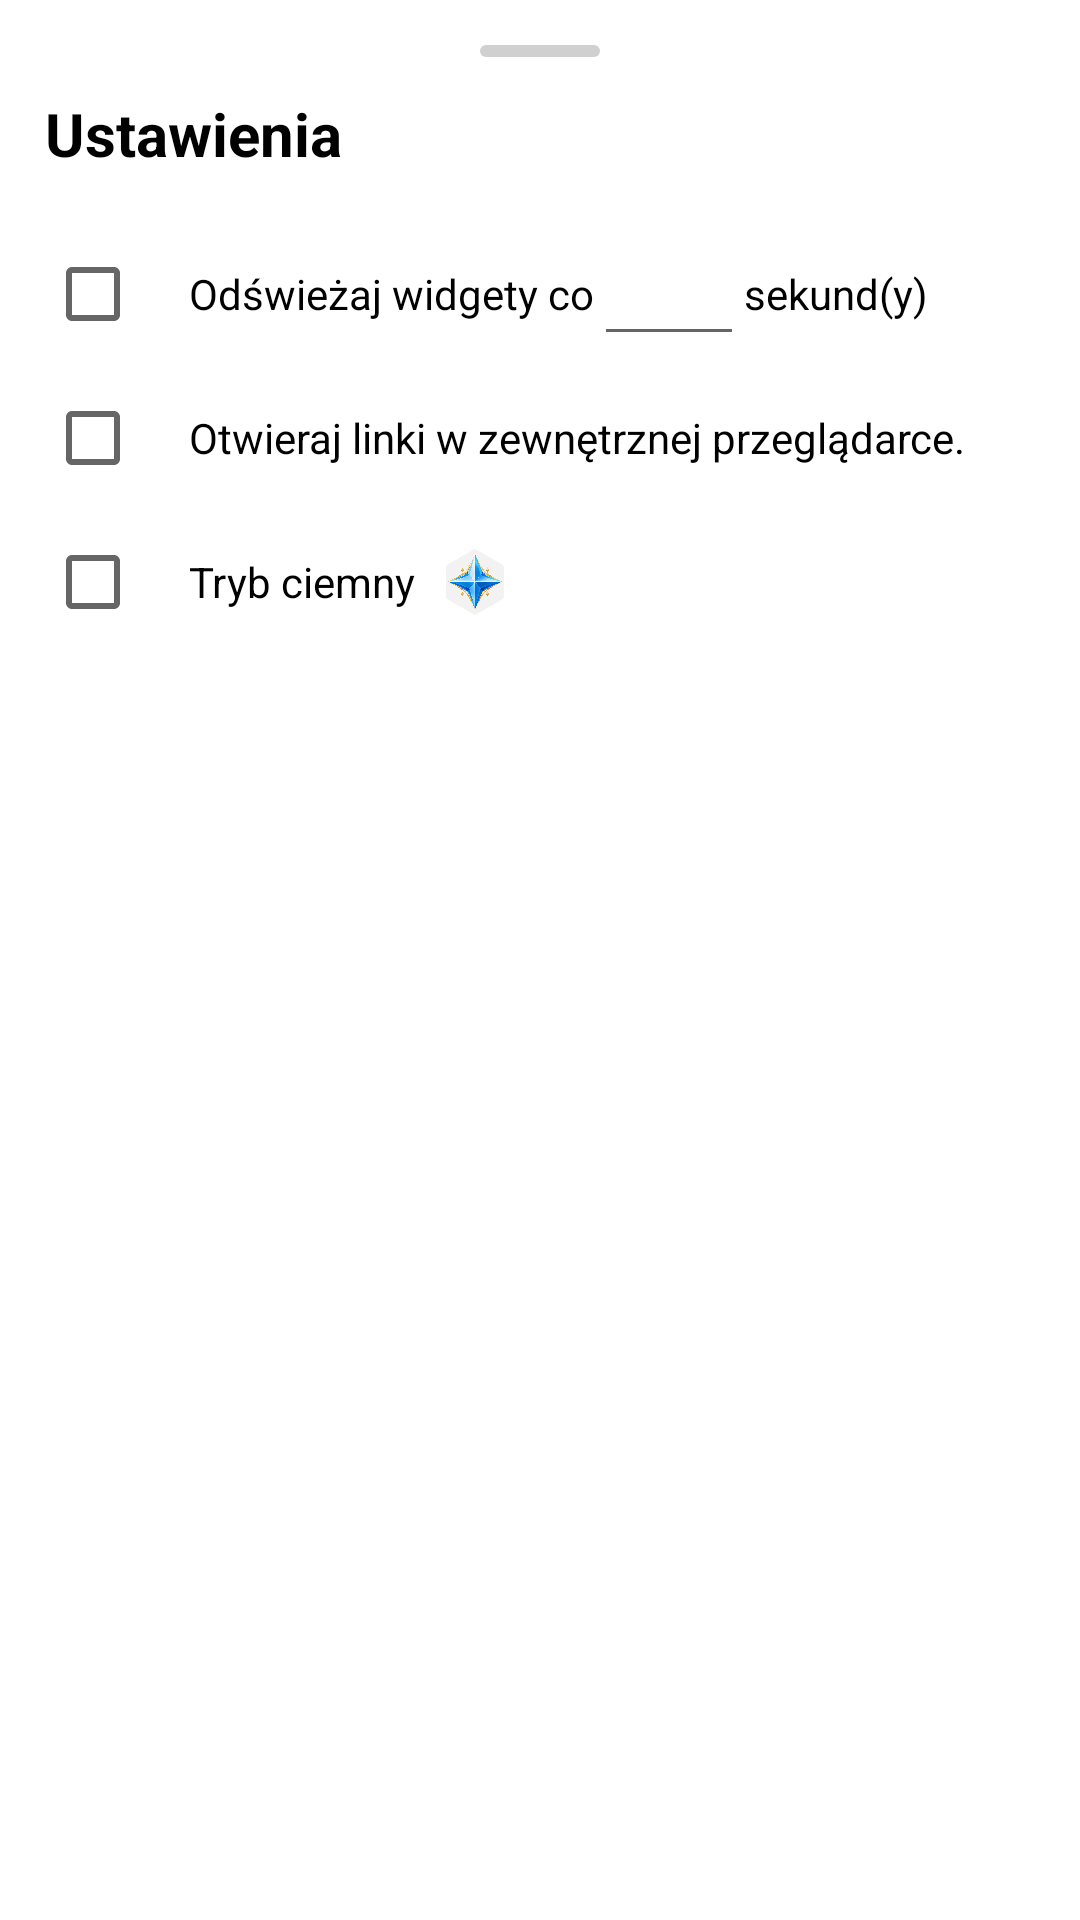

Icons on this 1080 × 1920 Android screen, each with its box as box(x1, y1, x2, y2):
Ikona produktu premium: box(446, 549, 504, 615)
